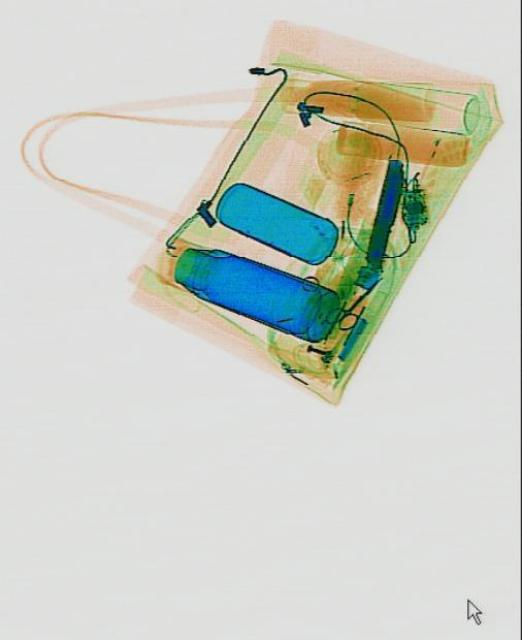Scissors: (321, 262, 390, 338)
